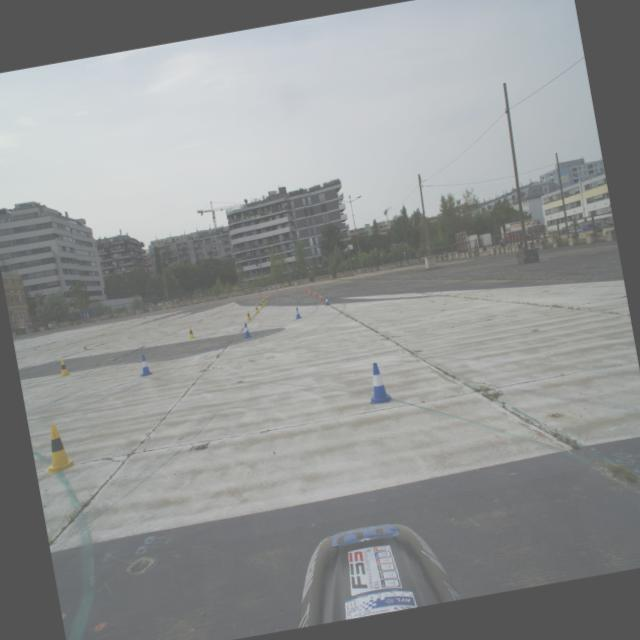blue_cone: (362, 360, 392, 406), (136, 354, 153, 376), (240, 322, 252, 338), (293, 306, 302, 319), (322, 295, 330, 305)
orange_cone: (312, 290, 317, 298), (318, 292, 322, 300), (308, 289, 312, 296), (266, 294, 270, 300), (268, 292, 272, 298), (111, 319, 115, 324), (210, 300, 213, 306), (235, 296, 238, 302), (274, 290, 277, 296), (304, 286, 307, 292), (136, 314, 140, 318), (256, 294, 260, 298), (244, 295, 247, 300), (142, 314, 145, 318), (170, 308, 173, 312), (173, 308, 176, 312), (294, 288, 297, 292), (307, 288, 309, 294), (204, 302, 206, 306)
yellow_cone: (38, 422, 76, 474), (56, 358, 71, 377), (186, 326, 195, 338), (244, 310, 252, 320), (253, 304, 260, 314), (258, 300, 264, 308), (261, 298, 266, 305), (264, 296, 268, 302)
